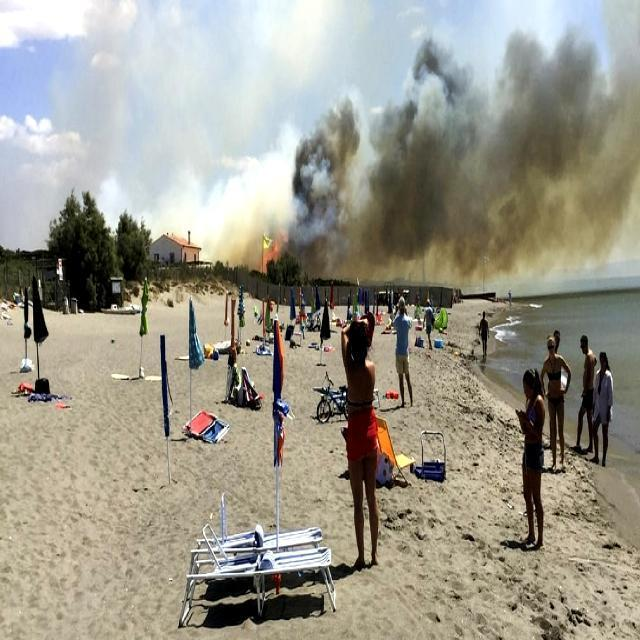Smoke: (245, 2, 640, 285)
